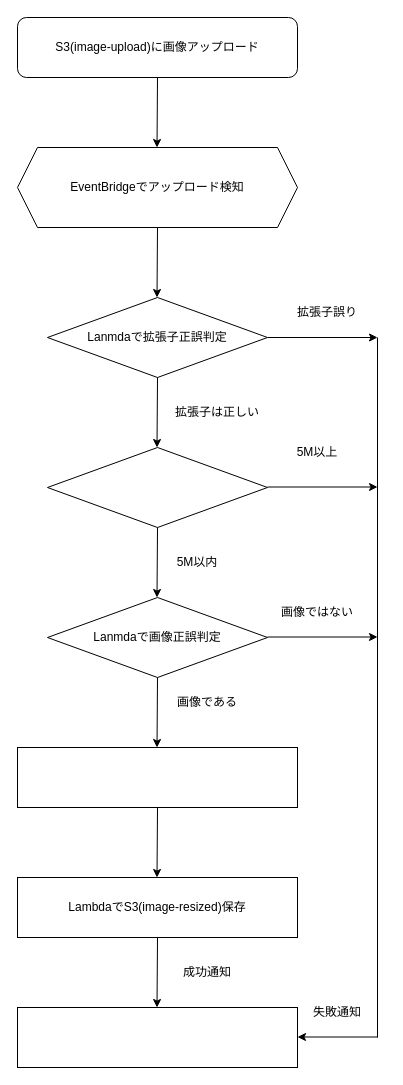
Some shapes in this 403 by 1085 pixel diagram are drawn without their labels. The shapes that lost their labels are listed below. From the top down, each one's box as (x1, y1, x2, y2) in pixels, then its label:
(46, 446, 268, 528): Lanmdaでサイズ判定
(16, 746, 298, 808): Lambdaでリサイズ
(16, 1006, 298, 1068): SNSで通知
